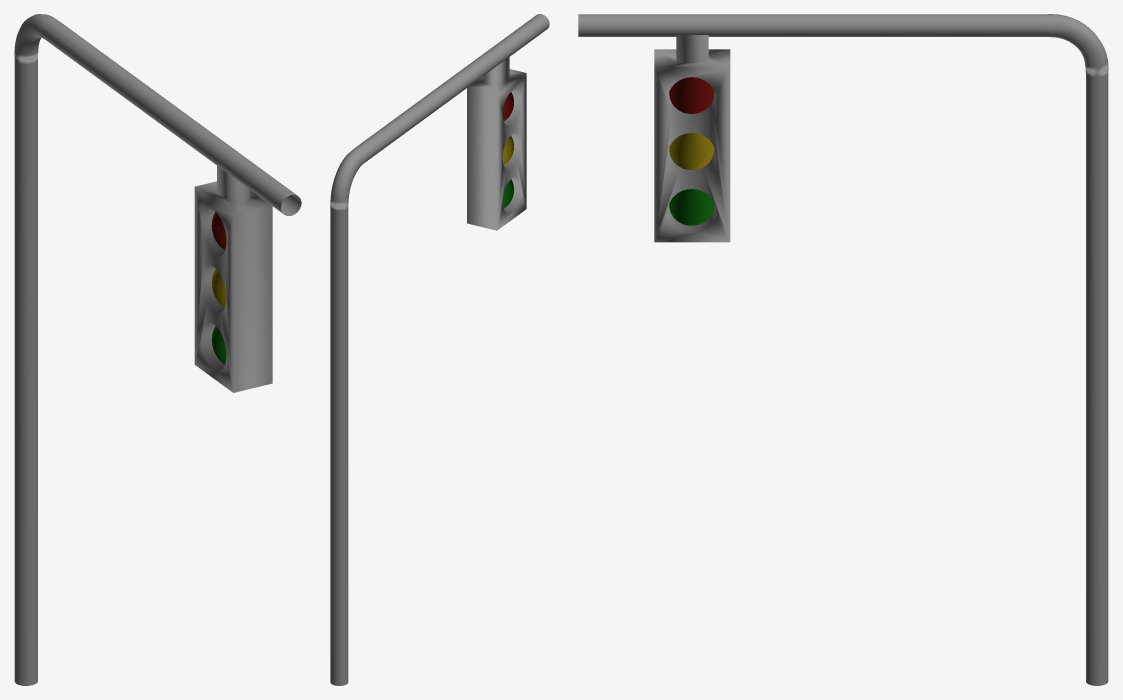
Rendered from lights.fbx.
3 views of the same model, side by side, from view 1: azimuth 30°, elevation 25°; view 2: azimuth 150°, elevation 25°; view 3: azimuth 270°, elevation 25° (orthographic). The views are drawn at different scales.
Parts seen in each view (by area): view 1: fence_001; view 2: fence_001; view 3: fence_001.
Boxes of the visible parts, x1=… form: fence_001: x1=14, y1=14, x2=301, y2=685; fence_001: x1=330, y1=14, x2=549, y2=685; fence_001: x1=578, y1=14, x2=1108, y2=685.
Size of the model in its own units: 0.6922 by 11.42 by 8.24.
